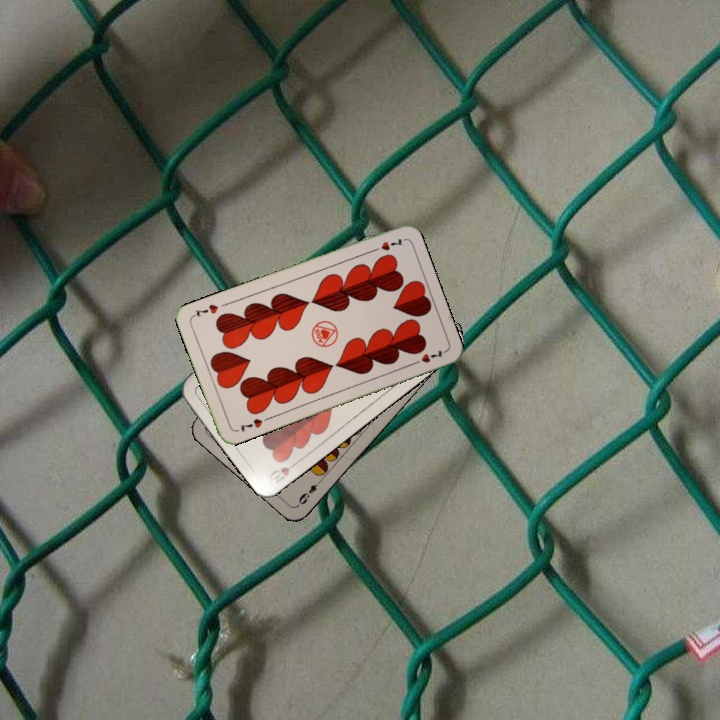E9: (294, 475, 325, 507)
H10: (265, 456, 301, 489)
H7: (367, 234, 406, 255), (236, 414, 265, 434)
